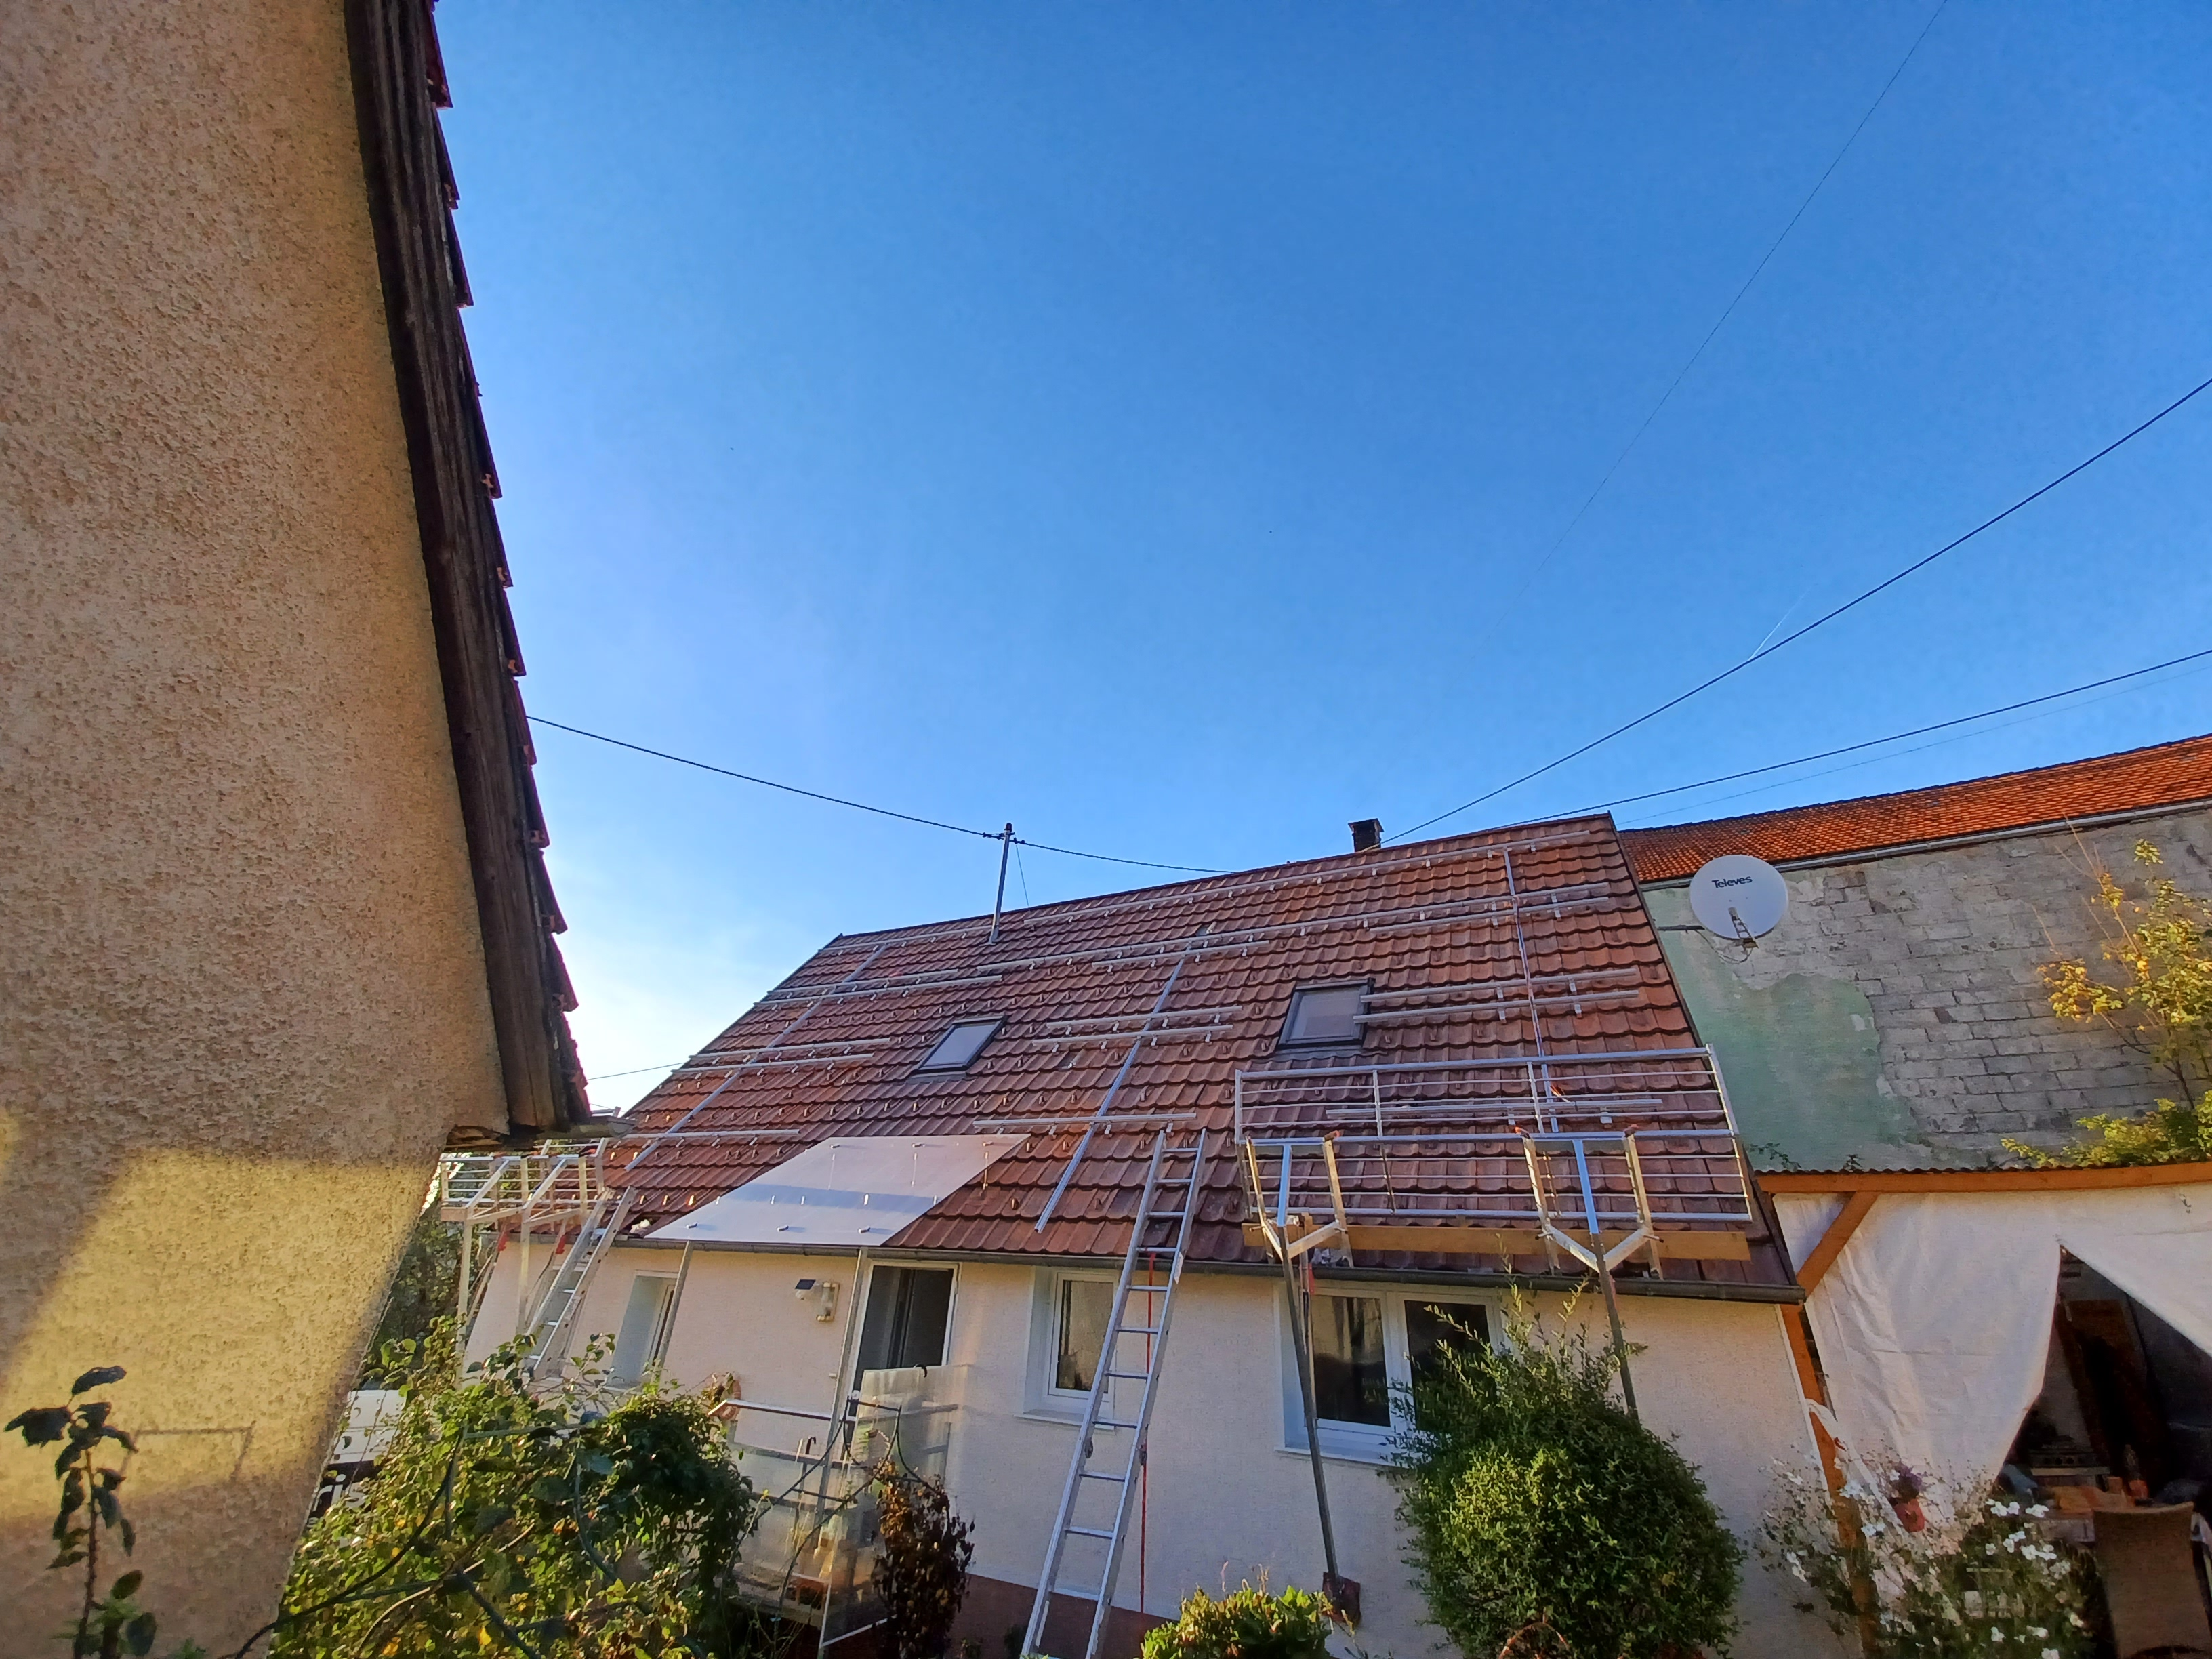hook: (1601, 1105, 1611, 1129), (1507, 1107, 1515, 1131), (1498, 1004, 1507, 1025), (1568, 976, 1576, 995), (1573, 999, 1581, 1018), (1165, 1117, 1174, 1136), (1104, 1119, 1113, 1138), (1049, 1121, 1057, 1140), (711, 1134, 721, 1150), (1052, 1040, 1061, 1056), (749, 1133, 758, 1148), (1496, 983, 1503, 1002), (676, 1136, 685, 1150), (1491, 915, 1498, 931), (1205, 1030, 1212, 1046), (1151, 1033, 1158, 1049), (1101, 1037, 1108, 1053), (996, 1122, 1003, 1138), (641, 1138, 651, 1148), (1106, 962, 1115, 974), (843, 1044, 852, 1056), (1554, 906, 1561, 920), (1362, 917, 1369, 931), (1242, 945, 1249, 958), (1066, 1023, 1073, 1037), (808, 1047, 817, 1058), (742, 1053, 751, 1063), (725, 1068, 733, 1079), (1550, 890, 1557, 903), (1299, 925, 1306, 938), (1066, 955, 1073, 967), (1162, 1016, 1169, 1028), (775, 1049, 782, 1061), (758, 1065, 765, 1077), (806, 1000, 815, 1009), (712, 1056, 721, 1065), (1188, 896, 1195, 906), (1317, 875, 1324, 885), (1247, 932, 1254, 943), (1116, 948, 1123, 958), (838, 995, 845, 1006), (869, 992, 876, 1002), (1214, 1011, 1219, 1025), (1113, 1019, 1118, 1033), (695, 1070, 702, 1080), (791, 1063, 798, 1073), (827, 1060, 834, 1070), (1270, 882, 1275, 894), (1372, 866, 1378, 878), (1487, 849, 1493, 861), (1531, 842, 1536, 854), (1195, 951, 1200, 964), (1151, 957, 1157, 969), (1202, 939, 1209, 948), (1029, 960, 1036, 969), (883, 979, 890, 988), (852, 983, 859, 992), (772, 1002, 779, 1011), (902, 988, 909, 997), (1104, 908, 1109, 918), (1150, 901, 1155, 911), (1228, 889, 1233, 899), (1491, 899, 1496, 910), (1420, 910, 1425, 920), (873, 945, 880, 951), (900, 939, 907, 946), (930, 936, 937, 943), (822, 986, 829, 993), (961, 931, 967, 939), (1068, 915, 1073, 924), (1426, 857, 1430, 870), (838, 948, 843, 955), (1160, 943, 1163, 953), (916, 976, 921, 983), (787, 992, 792, 999)
